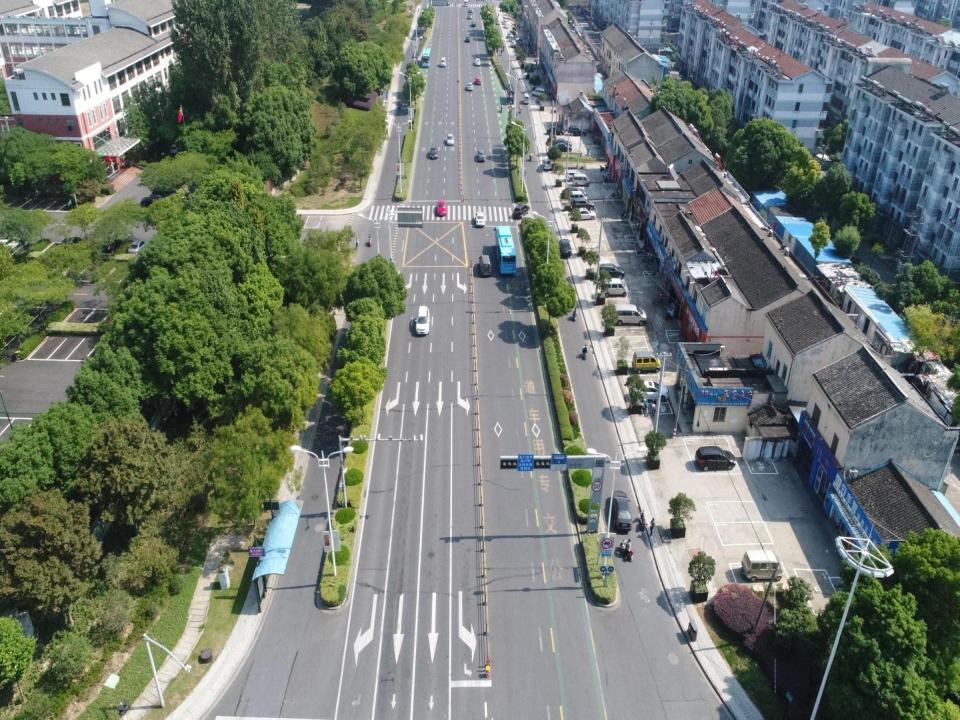bus: (492, 224, 518, 274), (420, 47, 431, 69)
car: (695, 445, 736, 471), (611, 489, 632, 532), (636, 379, 669, 401), (414, 305, 429, 336), (598, 264, 625, 279), (126, 238, 147, 254), (564, 185, 588, 198), (478, 254, 492, 276), (572, 197, 595, 210), (1, 236, 22, 250), (575, 207, 597, 220), (513, 203, 531, 218), (103, 237, 122, 251), (60, 237, 82, 249), (558, 239, 572, 257), (140, 195, 160, 207), (169, 141, 186, 155), (568, 125, 587, 137), (565, 169, 583, 181), (551, 138, 572, 148), (552, 142, 572, 152), (436, 198, 447, 216), (474, 210, 486, 226), (428, 144, 438, 160), (546, 127, 564, 135), (540, 159, 552, 170), (477, 149, 486, 162), (446, 134, 454, 146), (474, 76, 482, 86), (466, 81, 473, 91), (474, 57, 480, 67), (507, 31, 513, 38), (511, 40, 516, 48), (465, 35, 470, 42), (495, 18, 500, 25), (470, 21, 476, 26), (467, 12, 472, 18), (468, 6, 473, 12), (504, 23, 509, 28), (502, 20, 508, 24), (503, 16, 507, 21)
van: (741, 548, 783, 581), (611, 303, 647, 326), (632, 351, 661, 374), (602, 277, 628, 297), (567, 190, 589, 205), (572, 174, 590, 188), (531, 87, 546, 97), (522, 93, 530, 104), (440, 56, 446, 68)
